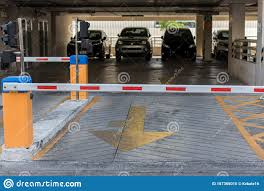car: (66, 30, 112, 59), (115, 27, 152, 59), (162, 28, 196, 59), (210, 30, 248, 56)
